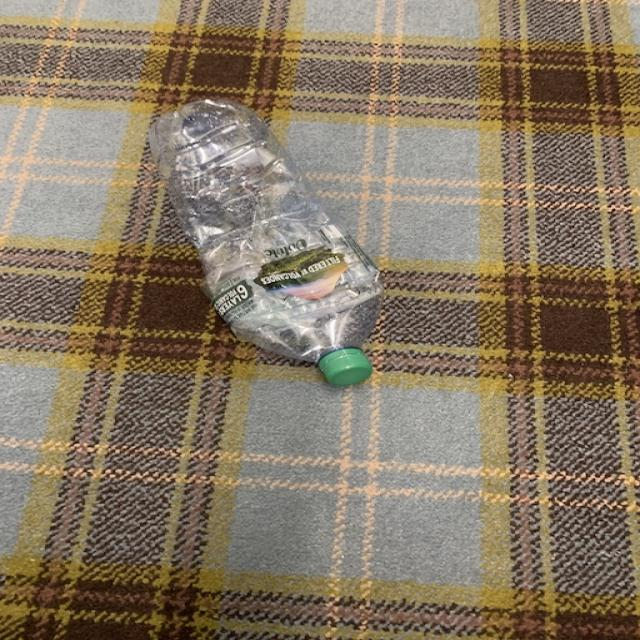Waste: (149, 99, 384, 387)
